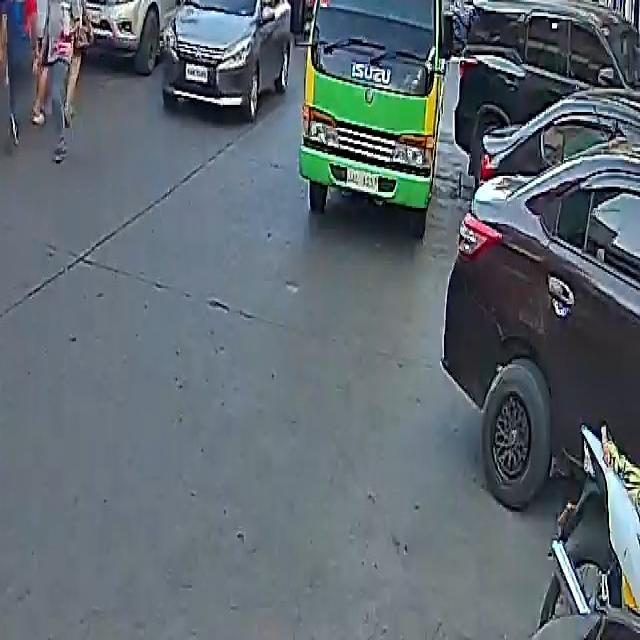car: (442, 58, 640, 530), (454, 0, 639, 181), (158, 0, 298, 119), (74, 0, 193, 75)
